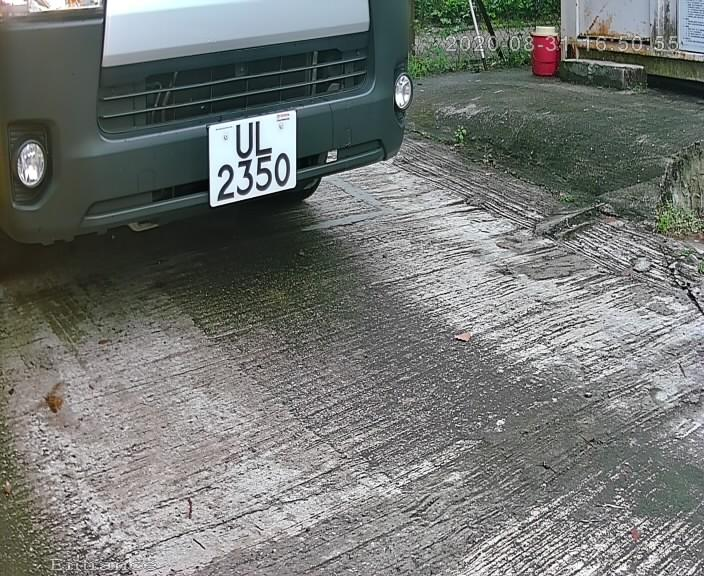Car: (13, 1, 453, 314)
License Plate: (199, 109, 312, 211)
